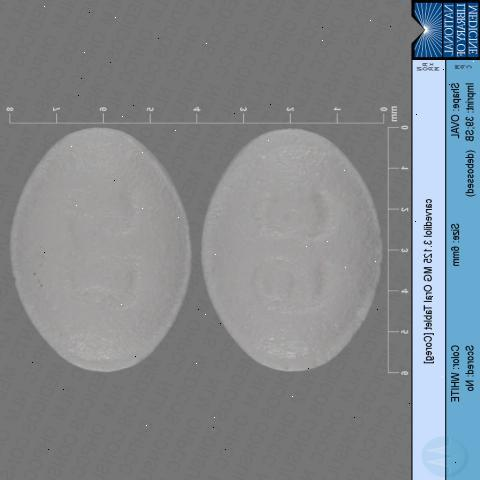Pill: (197, 112, 393, 378), (9, 108, 200, 377)
